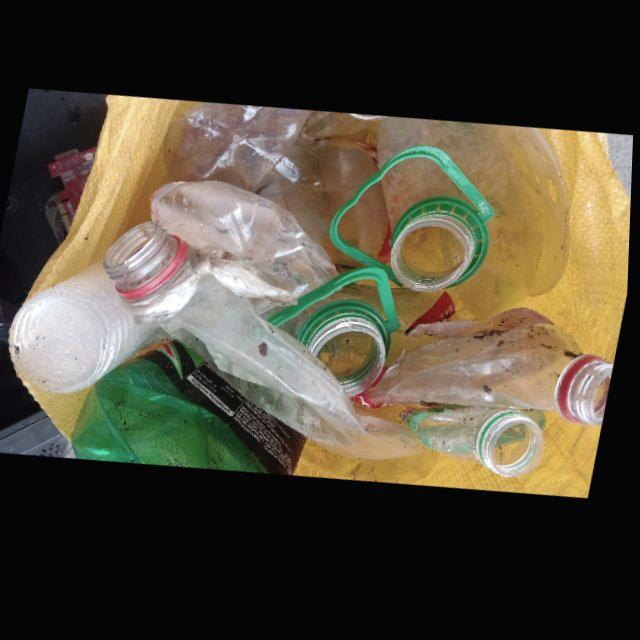plastic_bottle: (106, 224, 430, 466), (331, 123, 546, 331), (361, 295, 617, 437), (165, 106, 380, 275), (76, 344, 311, 482), (151, 185, 342, 317), (273, 272, 405, 402), (365, 410, 550, 487), (304, 117, 388, 151)
plastic_container: (13, 263, 158, 395)
